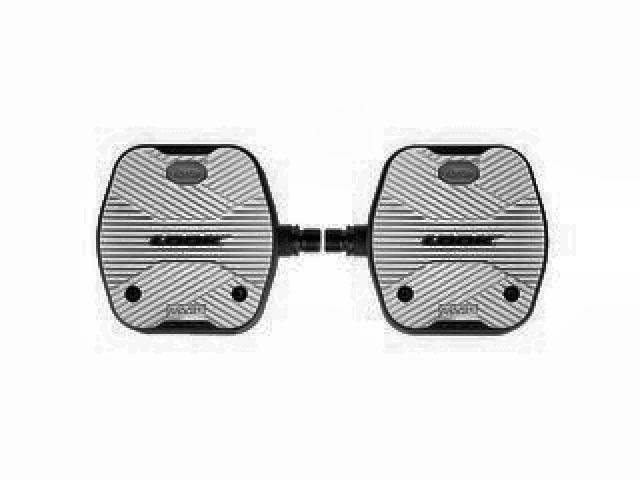pedal: (95, 139, 323, 337), (326, 139, 551, 339)
